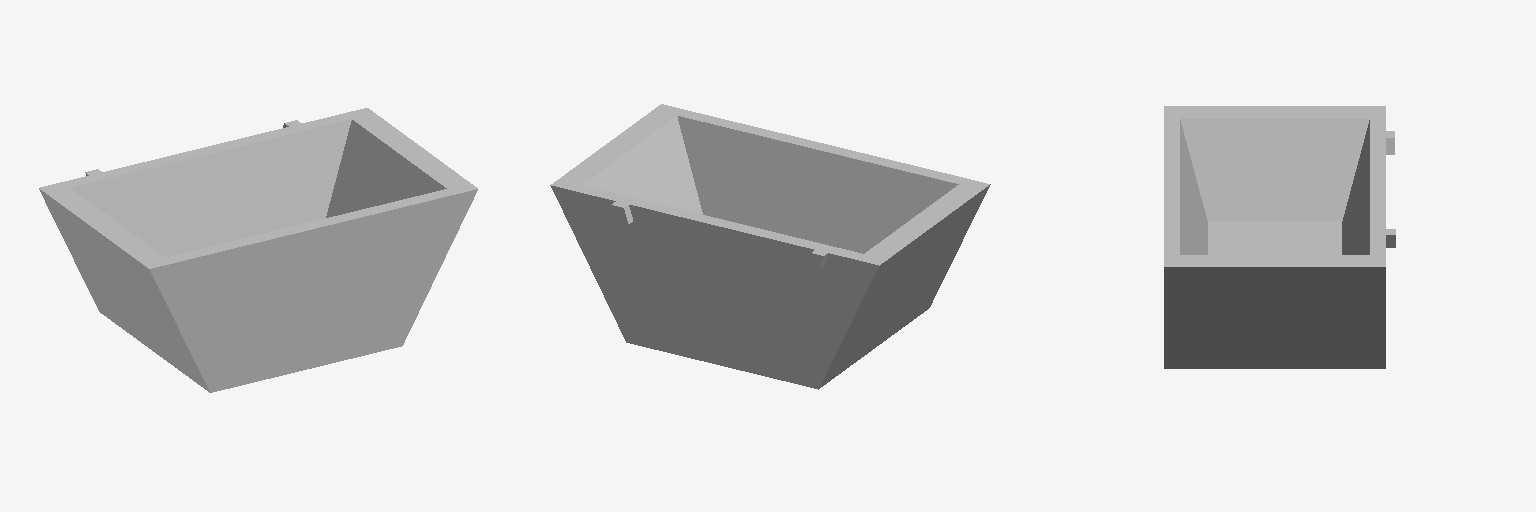
Rendered from GoalBox.obj.
3 views of the same model, side by side, from view 1: azimuth 30°, elevation 25°; view 2: azimuth 150°, elevation 25°; view 3: azimuth 270°, elevation 25° (orthographic).
Visible parts, largest first — view 1: Box_Cube; view 2: Box_Cube; view 3: Box_Cube.
Part boxes in pixels (bbox=[...]): Box_Cube: bbox=[39, 108, 477, 392]; Box_Cube: bbox=[550, 104, 990, 389]; Box_Cube: bbox=[1164, 106, 1395, 368].
Size of the model in its own units: 1.71 by 0.6899 by 1.04.